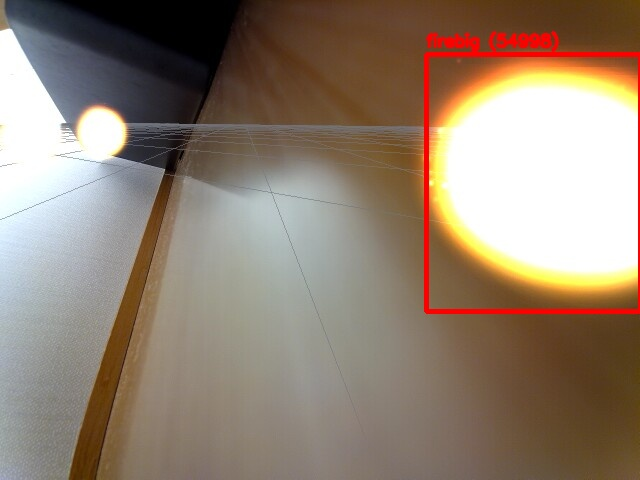firebig: (426, 54, 640, 311)
